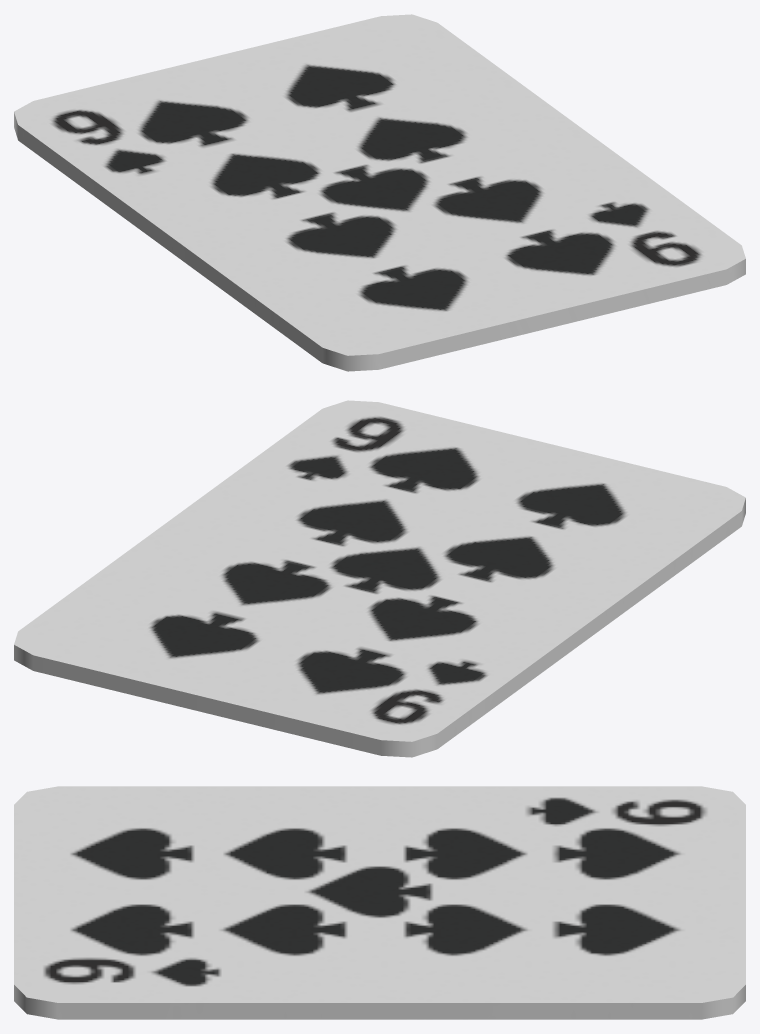
The model's file is Karta_9P.fbx.
3 renders of one model, top to bottom at view 1: azimuth 30°, elevation 25°; view 2: azimuth 150°, elevation 25°; view 3: azimuth 270°, elevation 25°, orthographic. The views are drawn at different scales.
Parts seen in each view (by area): view 1: KARTA; view 2: KARTA; view 3: KARTA.
Boxes of the visible parts, left/top/right/bottom form: KARTA: left=14, top=14, right=745, bottom=371; KARTA: left=14, top=400, right=745, bottom=757; KARTA: left=14, top=786, right=745, bottom=1019.
Bounding box in the file's own units: 840 × 30 × 1200.
